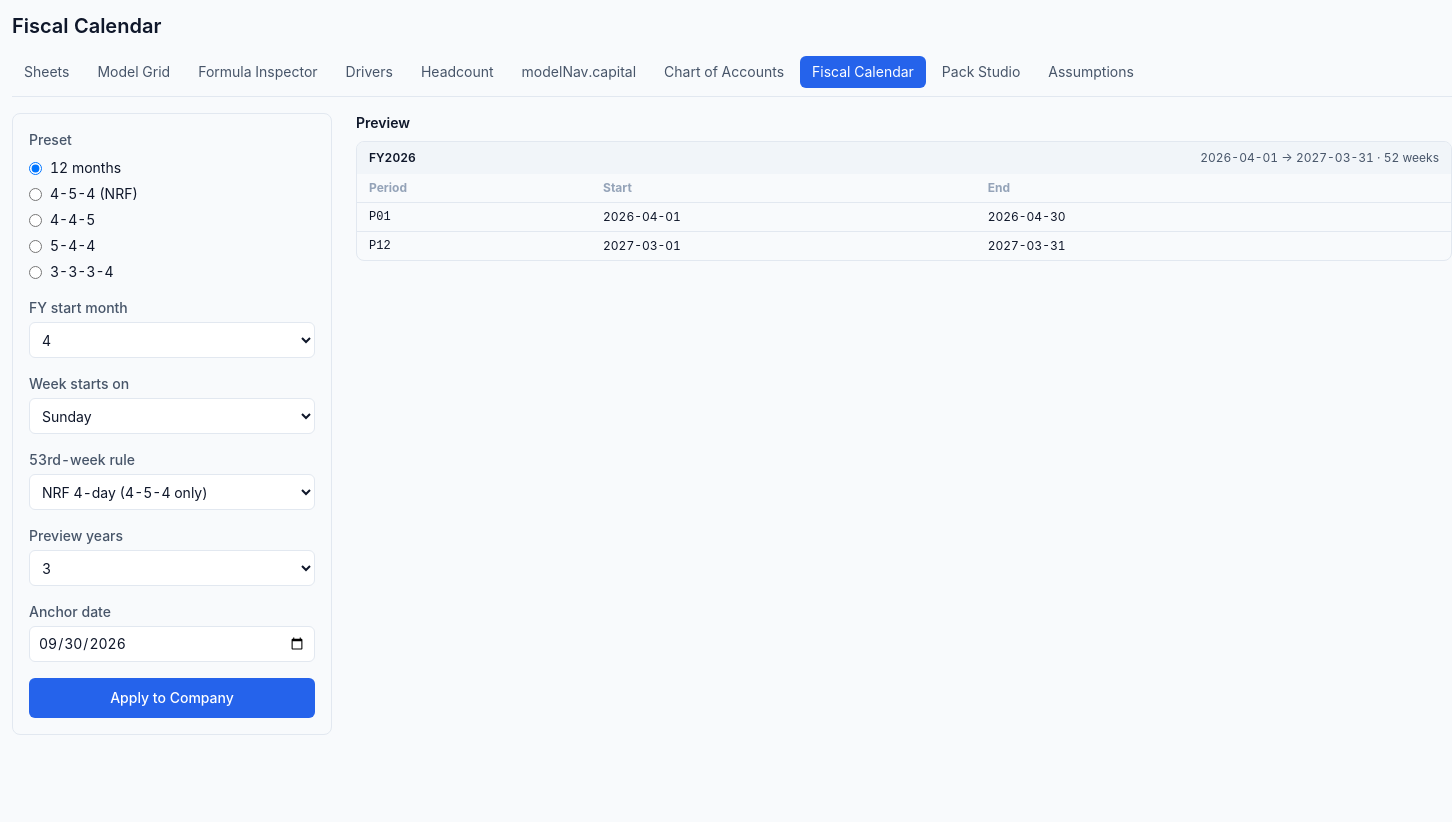
it: S-022 Fiscal Calendar (F-003) › renders a live preview and applies the calendar
Expected: the text "P01" is shown, [357, 202, 591, 232]
Expected: the text "FY2026" is shown, [369, 150, 416, 166]
Step 1. Click the button "Apply to Company" → {"x": 172, "y": 698}, box [29, 678, 315, 718]
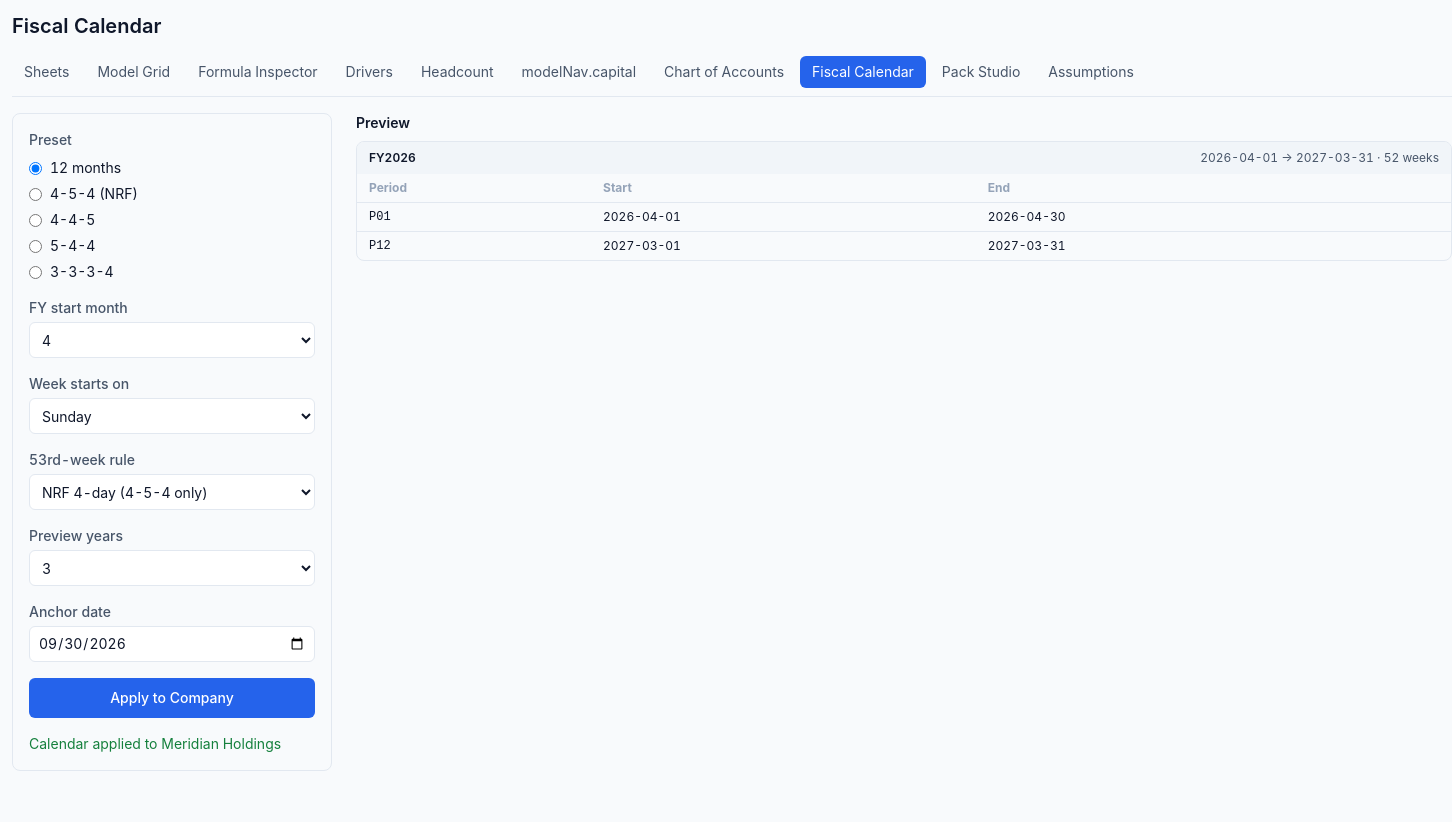
Expected: the text "Calendar applied to Meridian Holdings" is shown, [29, 734, 315, 754]
